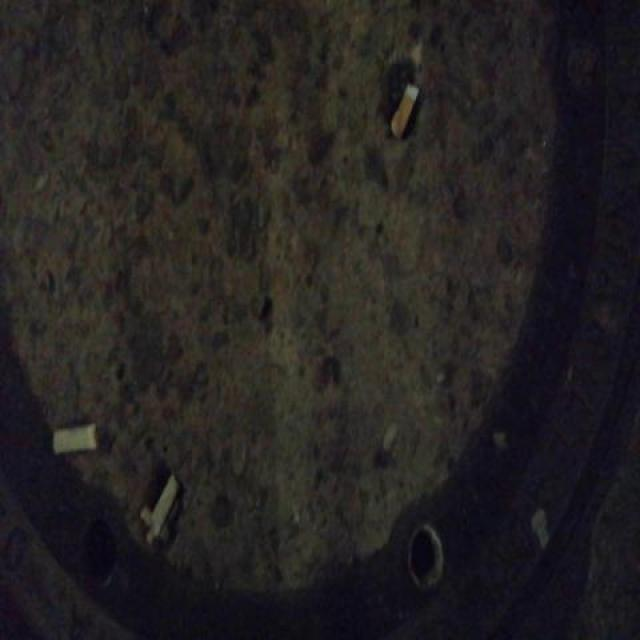non-organic waste: (147, 468, 185, 548), (386, 80, 421, 144), (48, 419, 100, 460)
